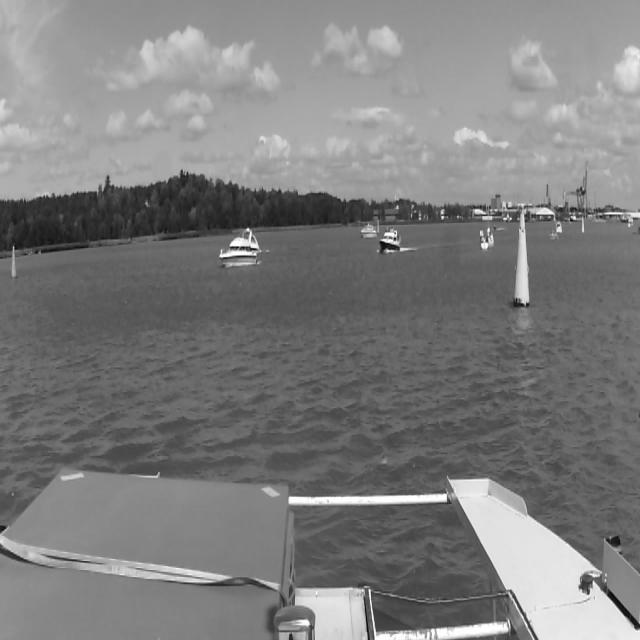buoy: (514, 205, 530, 306), (10, 245, 18, 279), (581, 214, 584, 233)
ship: (220, 226, 260, 270), (476, 176, 496, 252), (379, 226, 400, 254), (359, 217, 380, 239), (553, 218, 563, 235)
